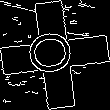O_E: (27, 30, 83, 80)
